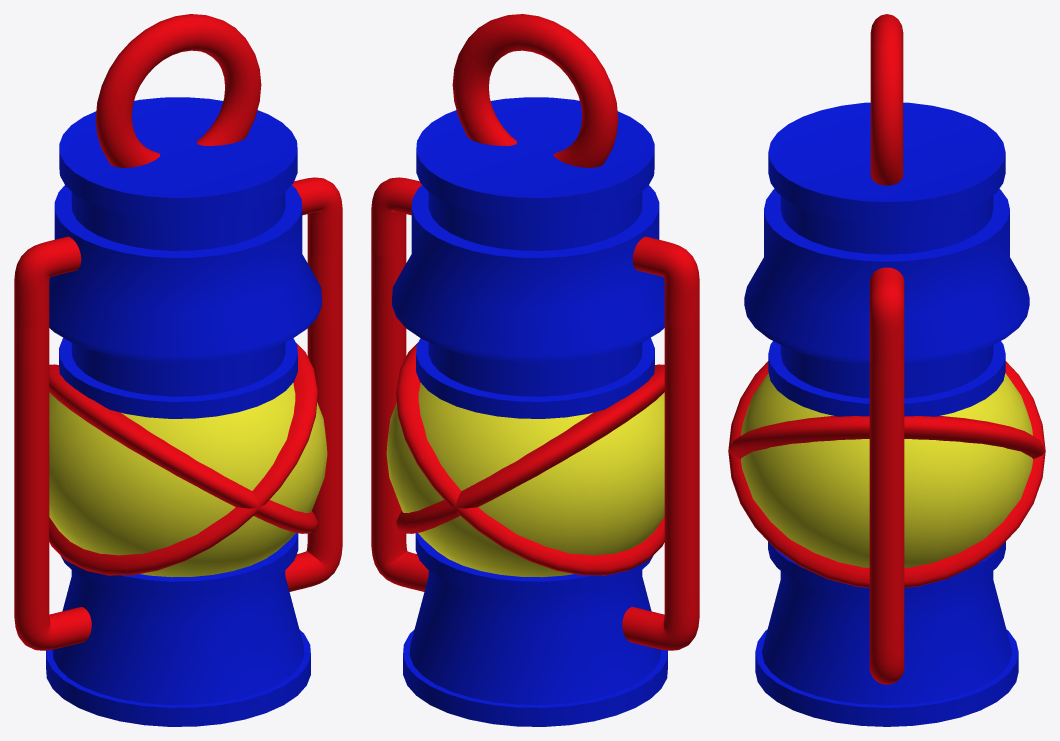
File: Öllampe.fbx
3 views of the same model, side by side, from view 1: azimuth 30°, elevation 25°; view 2: azimuth 150°, elevation 25°; view 3: azimuth 270°, elevation 25° (orthographic).
Parts seen in each view (by area): view 1: Cylinder, Torus.002, Sphere; view 2: Cylinder, Torus.002, Sphere; view 3: Cylinder, Torus.002, Sphere.
Part boxes in pixels (bbox=[...]): Cylinder: bbox=[46, 97, 321, 726]; Torus.002: bbox=[14, 14, 342, 650]; Sphere: bbox=[49, 383, 327, 577]; Cylinder: bbox=[392, 97, 667, 726]; Torus.002: bbox=[371, 14, 699, 650]; Sphere: bbox=[386, 383, 664, 577]; Cylinder: bbox=[744, 102, 1029, 726]; Torus.002: bbox=[728, 14, 1045, 684]; Sphere: bbox=[741, 373, 1032, 567].
Size of the model in its own units: 202 by 390 by 173.
